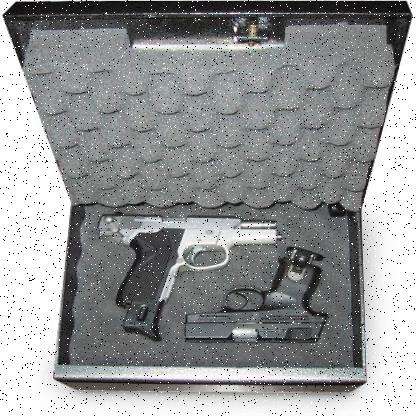pistol: (100, 213, 284, 307), (182, 259, 341, 342)
